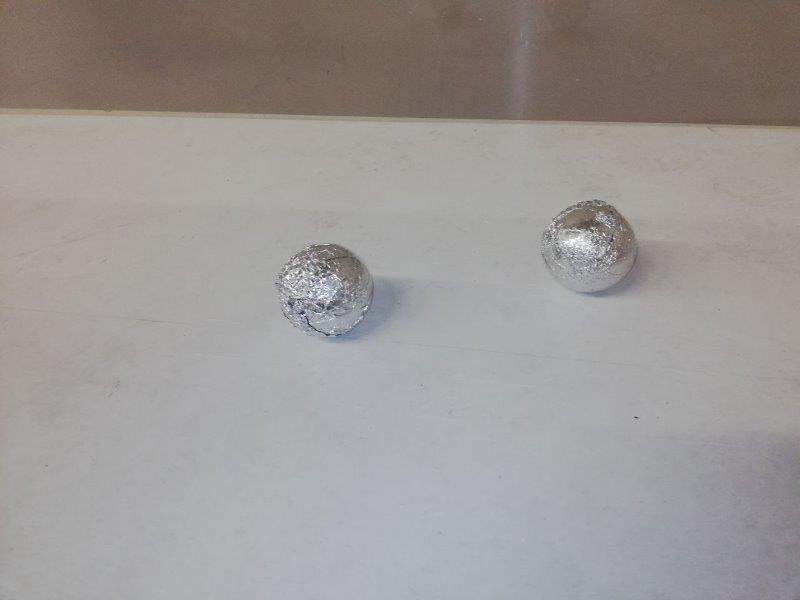bianca: (540, 198, 635, 296), (281, 240, 372, 339)
